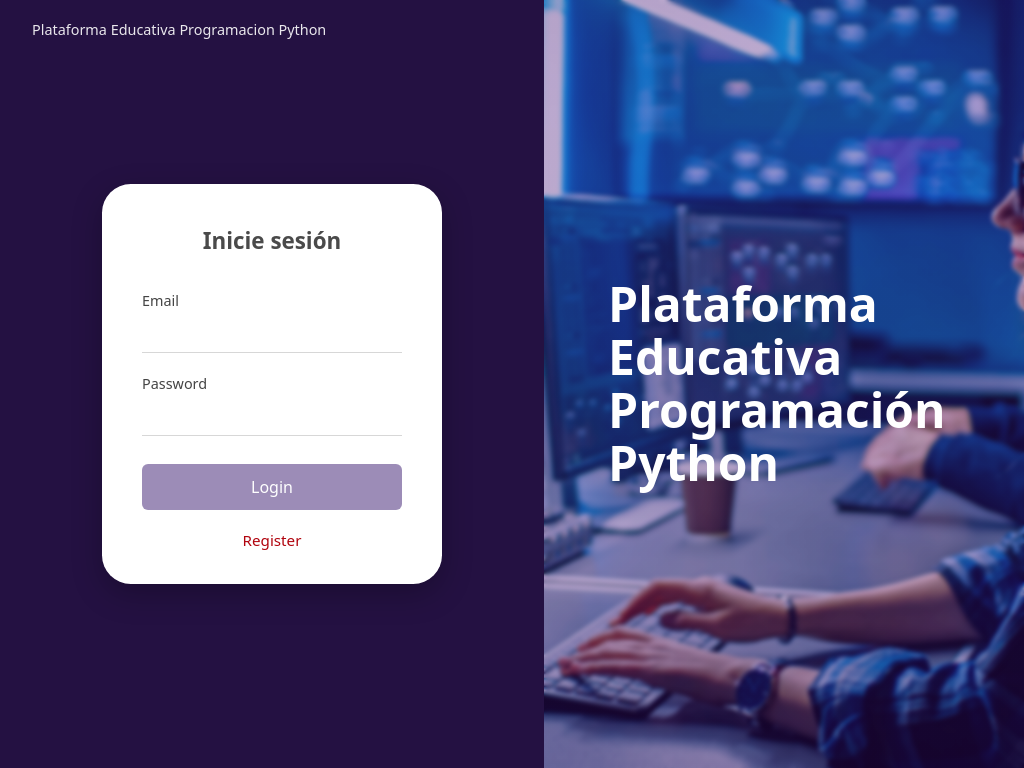
Test: LoginForm (TDD) - login con correo y password › muestra error del servidor cuando la API responde 401/400 y re-habilita Login
The image size is (1024, 768).
In the field labelled "Email": x=272, y=334 [142, 315, 402, 354], type "ana@mail.com"
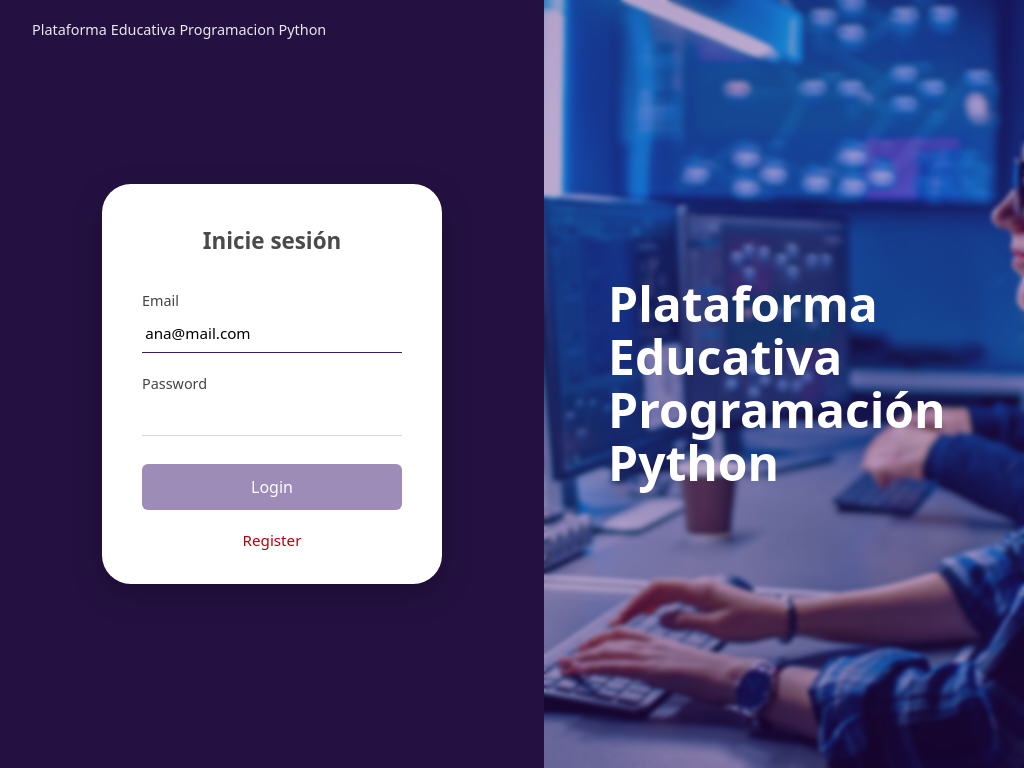
In the password field labelled "Password": x=272, y=417 [142, 398, 402, 436], type "secreto"
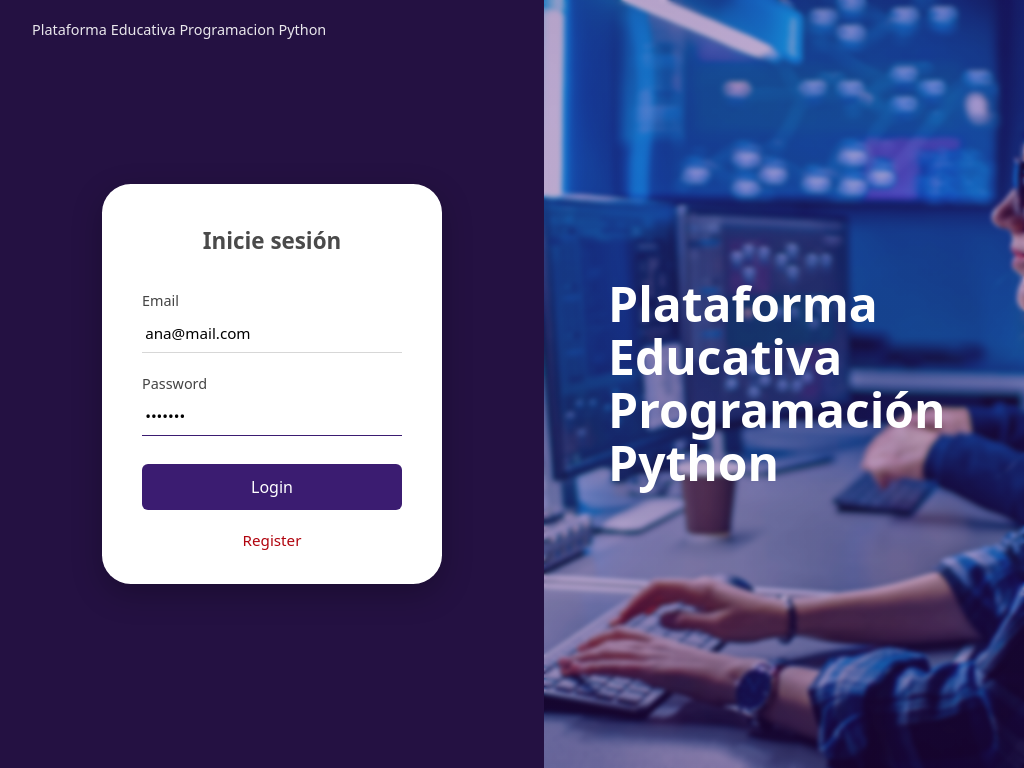
Click the button "Login": x=272, y=487 [142, 464, 402, 510]
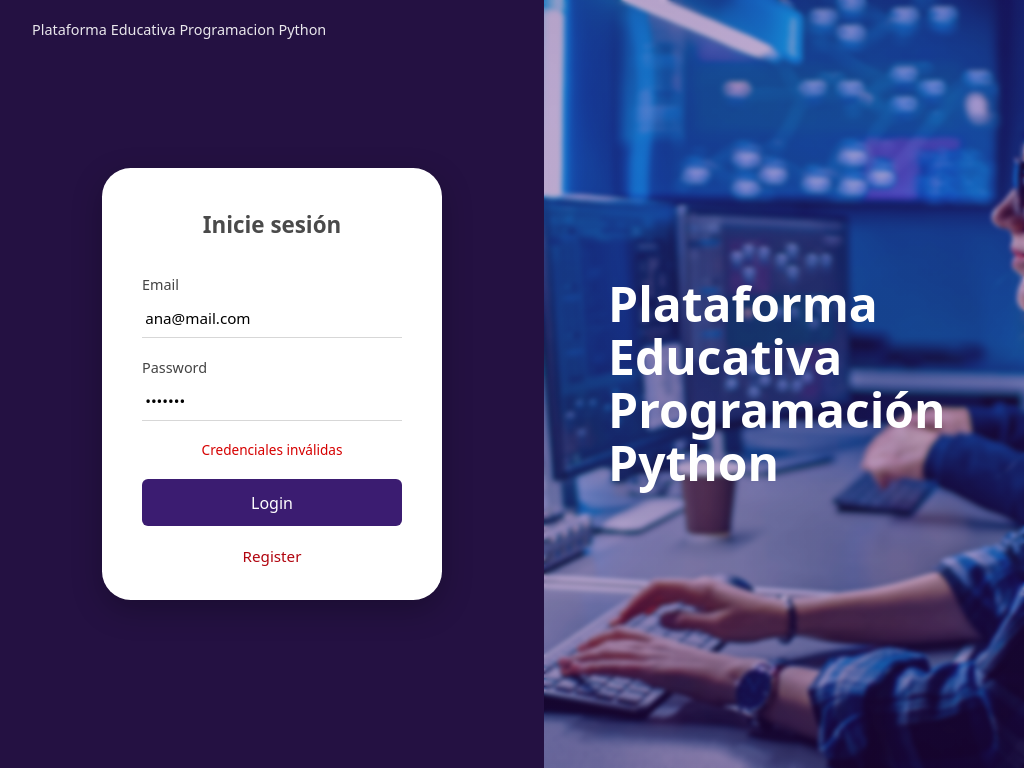
Now the button "Login" is enabled, box [142, 479, 402, 526]
Now the text "Credenciales inválidas" is shown, box [202, 440, 342, 459]
